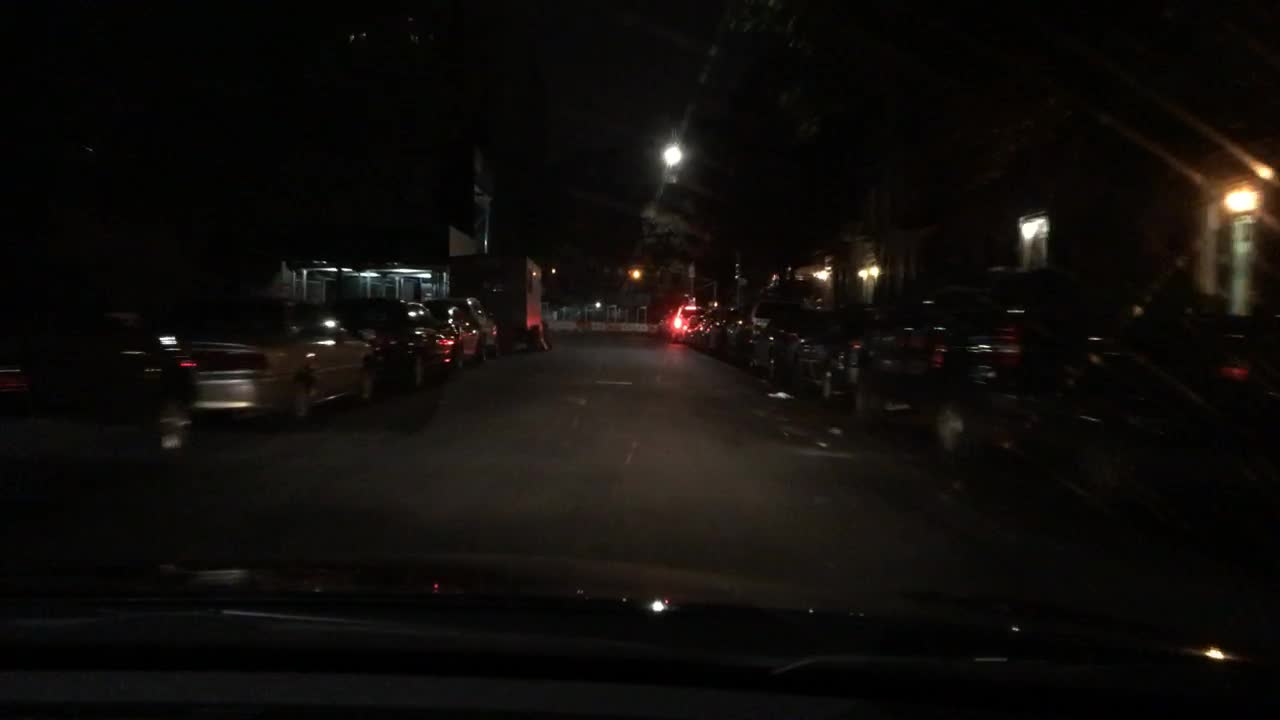car: (925, 270, 1236, 483), (1037, 309, 1279, 534), (0, 291, 201, 468), (190, 292, 372, 436), (817, 302, 964, 437), (362, 296, 448, 409), (728, 292, 823, 368), (778, 306, 843, 403), (429, 294, 485, 372), (459, 297, 512, 358), (759, 318, 806, 385), (699, 305, 739, 356), (660, 303, 692, 337), (682, 311, 711, 348)
truck: (444, 247, 552, 355)
